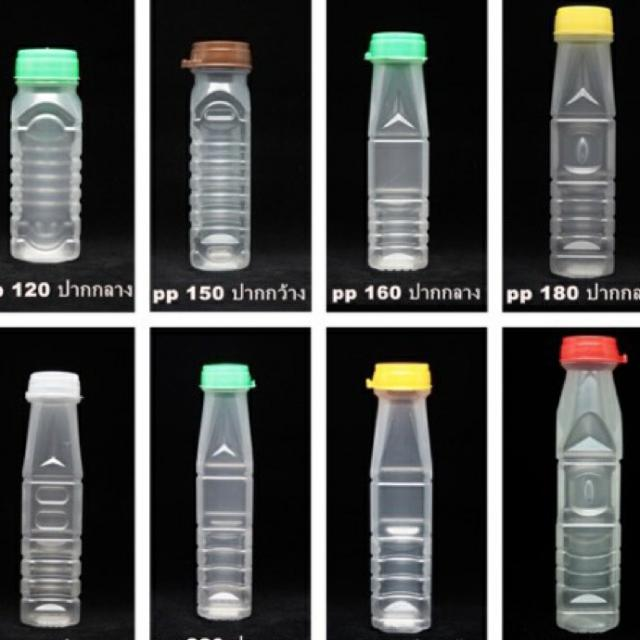Single-Use-Plastic: (555, 336, 626, 632), (550, 6, 616, 278), (366, 362, 432, 632), (181, 41, 251, 271), (20, 371, 82, 627), (10, 49, 82, 263), (365, 32, 429, 271), (196, 364, 255, 621)
